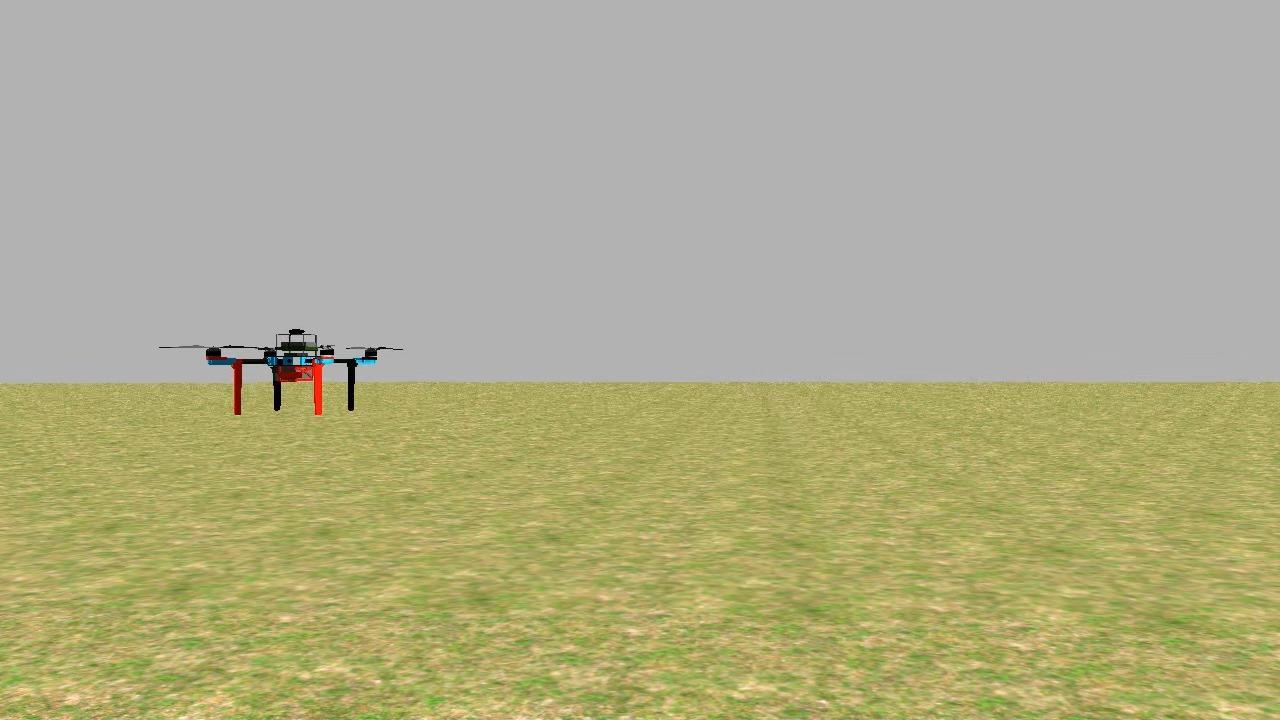UAV: (198, 304, 386, 433)
